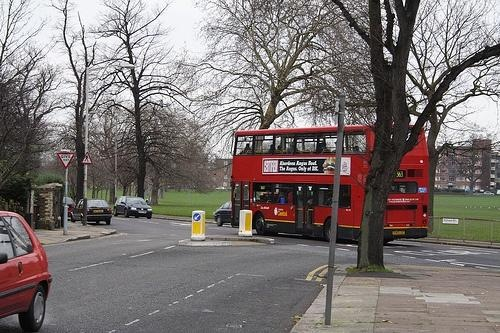bus: (232, 128, 431, 242)
car: (1, 211, 54, 333), (114, 196, 153, 220), (72, 199, 113, 221), (213, 202, 233, 228), (63, 198, 75, 216)
